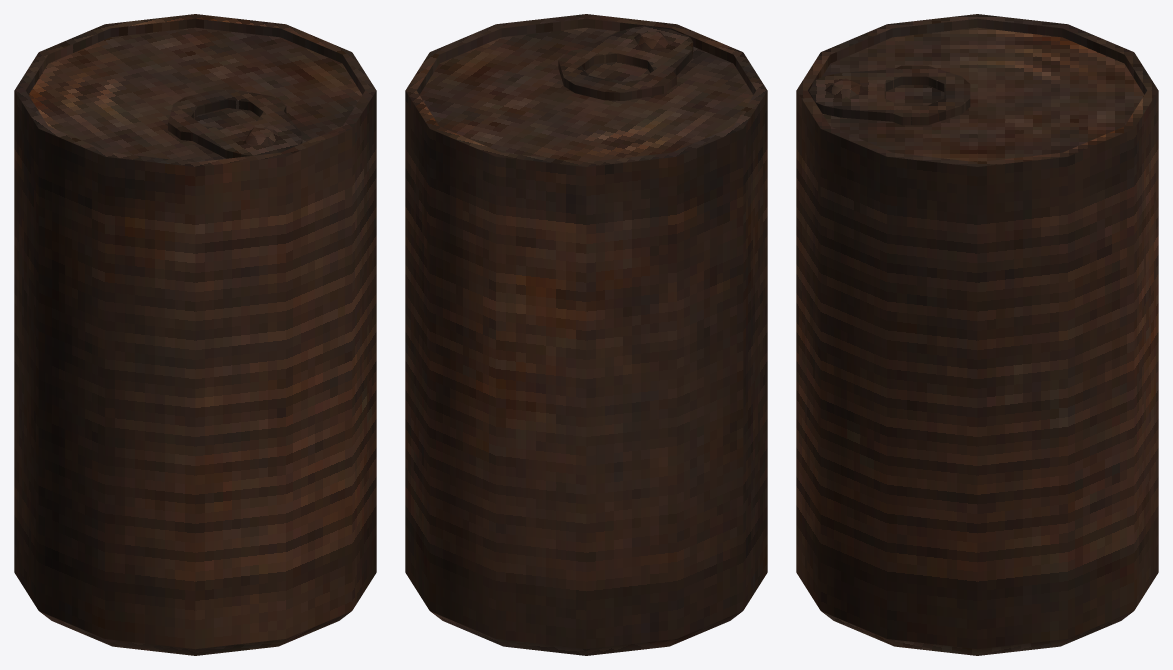
Rendered from canned_food_mp_5_rusty.glb.
The picture shows the model from 3 angles, left to right: view 1: azimuth 30°, elevation 25°; view 2: azimuth 150°, elevation 25°; view 3: azimuth 270°, elevation 25°; orthographic projection.
Visible parts, largest first — view 1: canned_food_mp_5_rusty; view 2: canned_food_mp_5_rusty; view 3: canned_food_mp_5_rusty.
Boxes of the visible parts, x1,y1,x2,y2 form: canned_food_mp_5_rusty: [14, 14, 376, 655]; canned_food_mp_5_rusty: [405, 14, 767, 655]; canned_food_mp_5_rusty: [796, 14, 1158, 655].
Bounding box in the file's own units: 0.11 × 0.168 × 0.11.
1 material, 1 textured.
